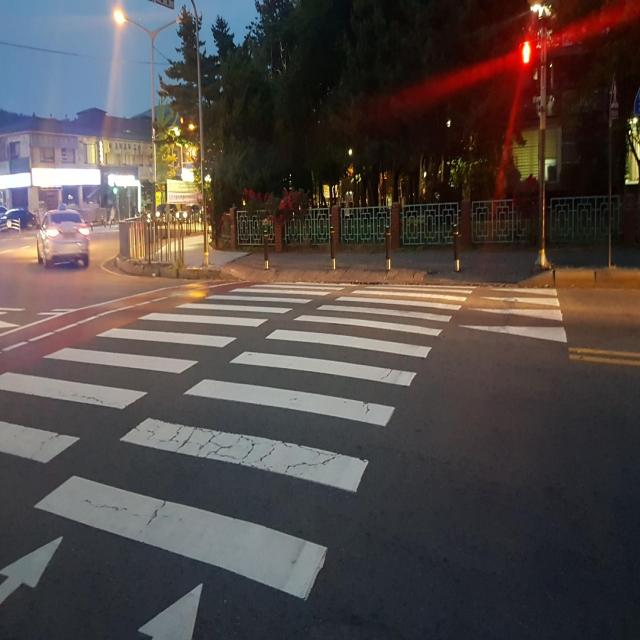빨간불: (520, 40, 534, 86)
횡단보도: (0, 277, 480, 640)
